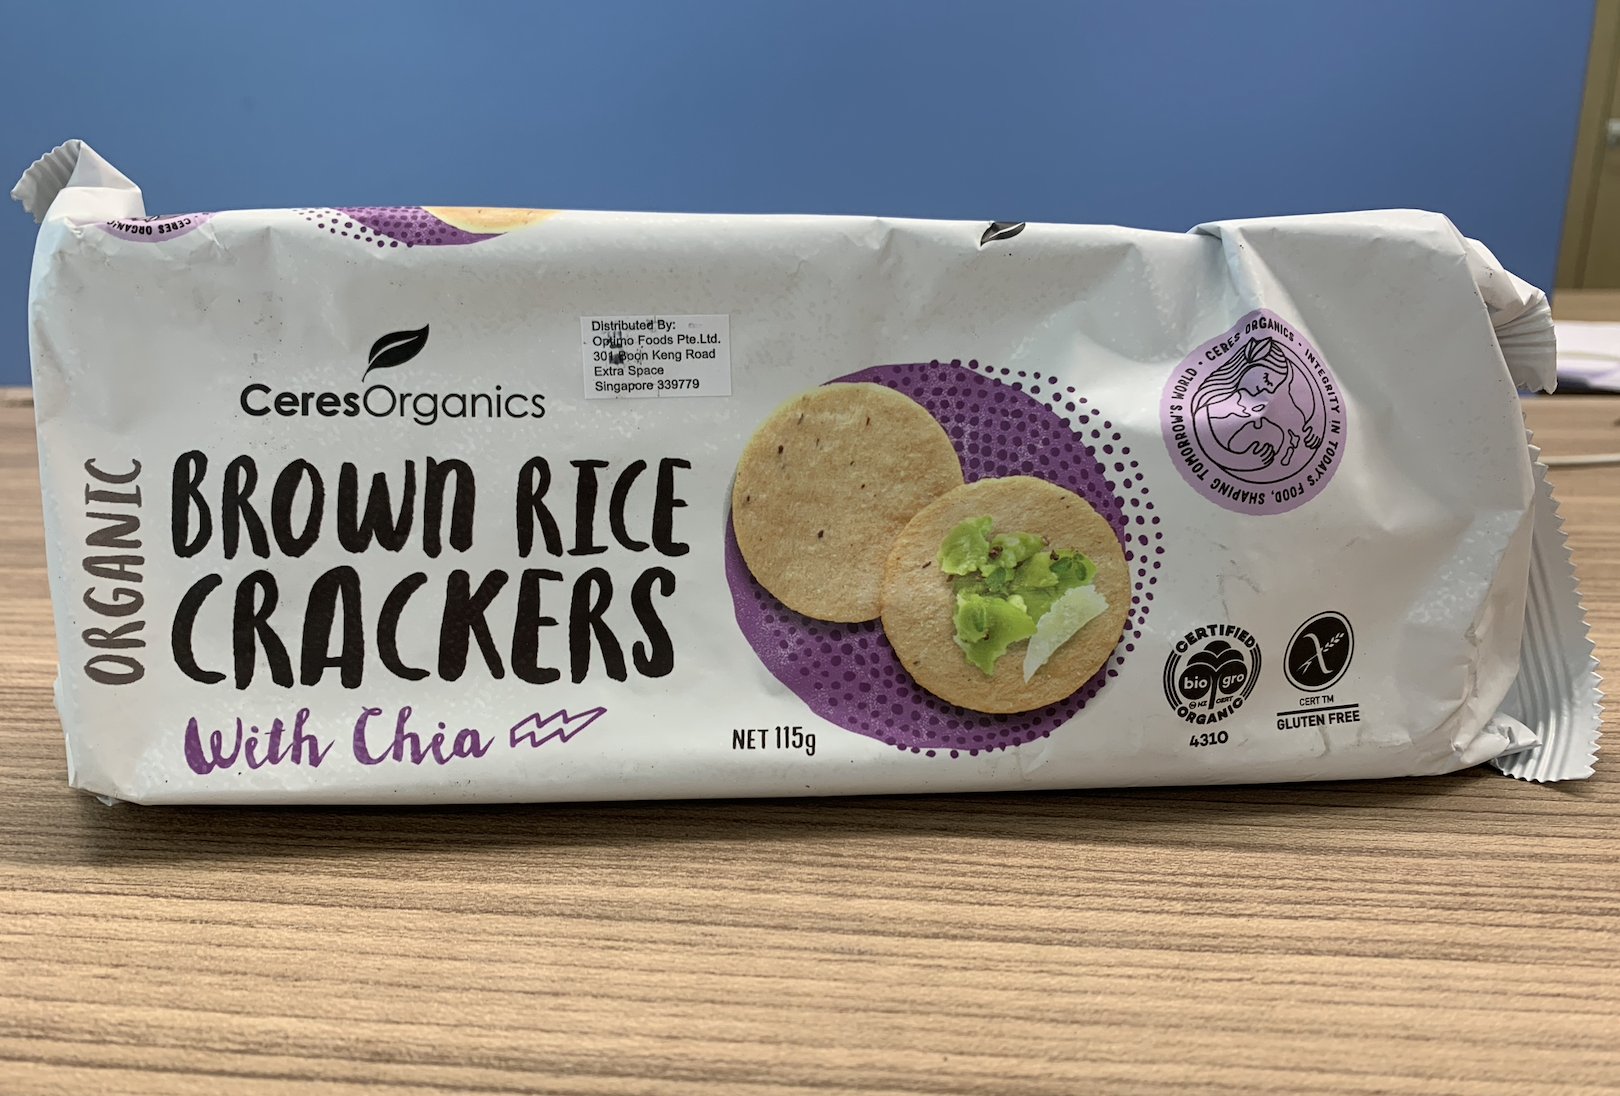crackers_100g-199g: (77, 251, 1450, 773)
